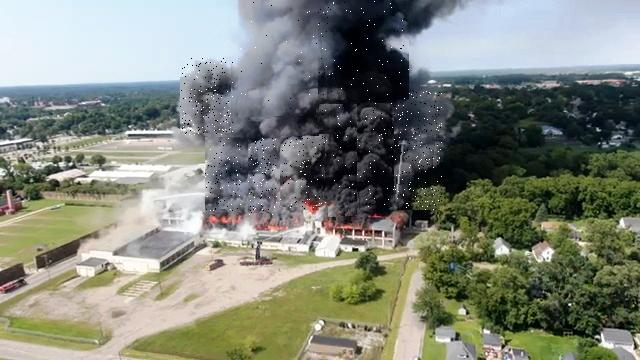smoke: (239, 0, 319, 117), (316, 0, 409, 100), (397, 91, 443, 210), (358, 103, 400, 210), (319, 105, 357, 220), (181, 58, 234, 136), (280, 137, 326, 210), (206, 138, 242, 212), (248, 139, 277, 217)
